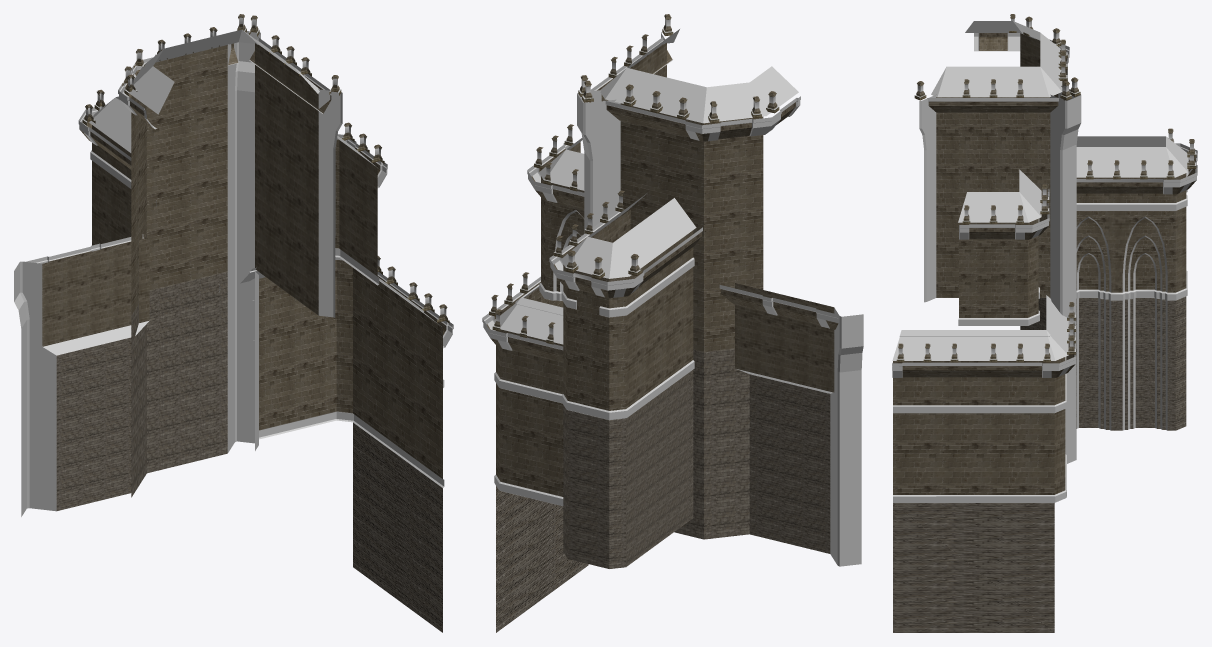
Rendered from SM_Chappel_Arena01.FBX.
3 views of the same model, side by side, from view 1: azimuth 30°, elevation 25°; view 2: azimuth 150°, elevation 25°; view 3: azimuth 270°, elevation 25° (orthographic). The views are drawn at different scales.
Parts seen in each view (by area): view 1: SM_Chappel_Arena01; view 2: SM_Chappel_Arena01; view 3: SM_Chappel_Arena01.
Boxes of the visible parts, bbox=[...] form: SM_Chappel_Arena01: bbox=[14, 14, 453, 632]; SM_Chappel_Arena01: bbox=[482, 14, 863, 632]; SM_Chappel_Arena01: bbox=[892, 14, 1197, 632].
Size of what is drawn, in the model's own units: 5314 by 4357 by 8100.
